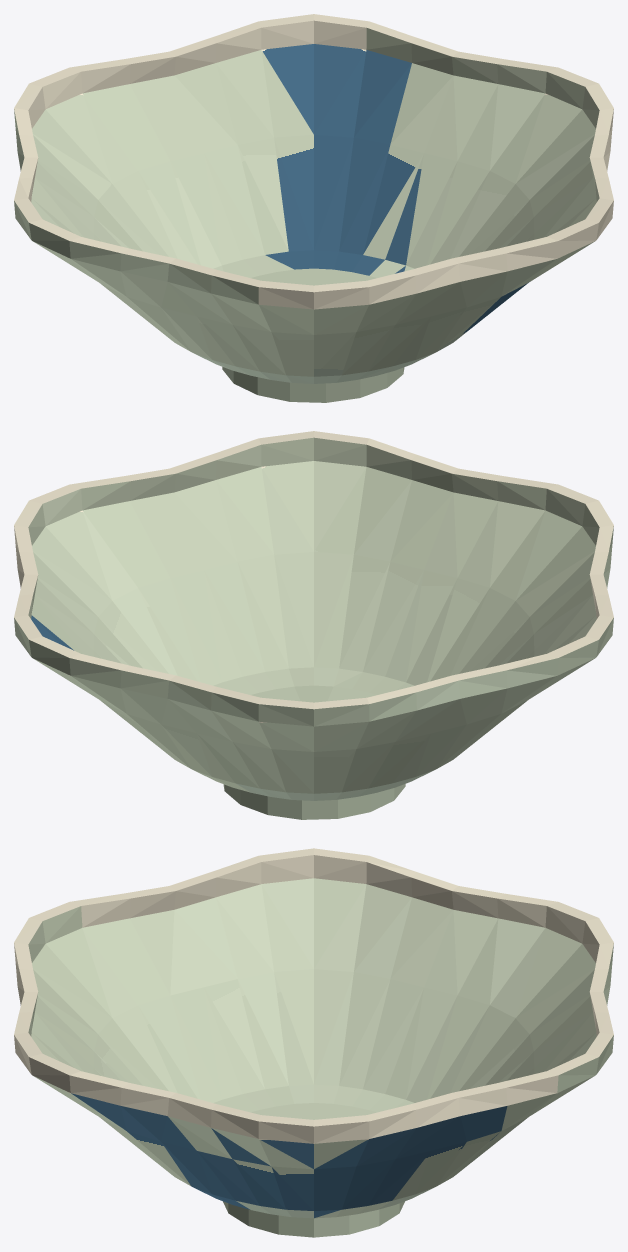
The model's file is vessel-arita.glb.
3 views of the same model, one above another, from view 1: azimuth 30°, elevation 25°; view 2: azimuth 150°, elevation 25°; view 3: azimuth 270°, elevation 25° (orthographic).
Visible parts, largest first — view 1: vessel-arita/complete-inner-outer-shell-with-drainage, vessel-arita/complete-open-foot-ring; view 2: vessel-arita/complete-inner-outer-shell-with-drainage, vessel-arita/complete-open-foot-ring; view 3: vessel-arita/complete-inner-outer-shell-with-drainage, vessel-arita/complete-open-foot-ring.
Boxes of the visible parts, <box> form: vessel-arita/complete-inner-outer-shell-with-drainage: <box>14,14,613,383</box>; vessel-arita/complete-open-foot-ring: <box>222,367,404,402</box>; vessel-arita/complete-inner-outer-shell-with-drainage: <box>14,431,613,800</box>; vessel-arita/complete-open-foot-ring: <box>223,784,405,819</box>; vessel-arita/complete-inner-outer-shell-with-drainage: <box>14,848,613,1218</box>; vessel-arita/complete-open-foot-ring: <box>223,1201,404,1237</box>.
Size of the model in its own units: 0.4001 by 0.1415 by 0.3646.
Materials: 1 (1 with a texture image).
